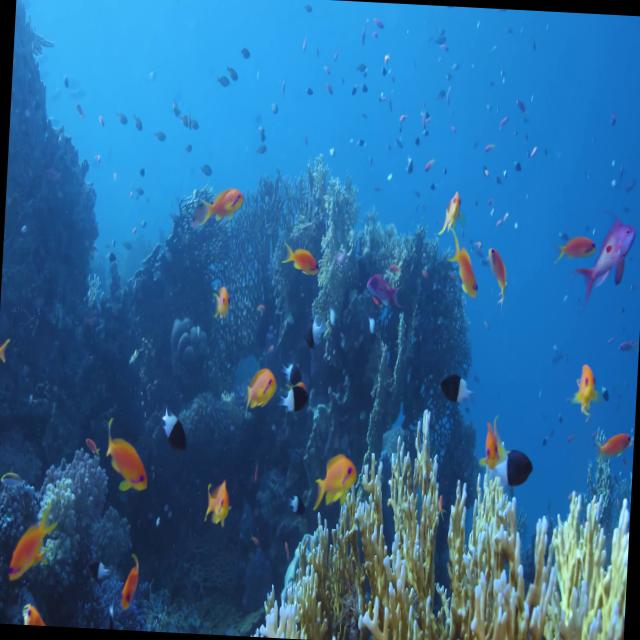fish: (0, 491, 60, 594), (572, 215, 638, 302), (98, 414, 156, 504), (302, 437, 358, 528), (489, 434, 544, 494), (237, 354, 280, 424), (484, 231, 520, 312), (446, 230, 484, 306), (197, 176, 244, 235), (274, 232, 326, 285), (432, 362, 487, 412), (197, 470, 237, 536), (585, 416, 635, 468), (12, 582, 67, 626), (568, 351, 603, 417), (156, 401, 196, 458), (429, 187, 468, 244), (552, 216, 596, 266), (112, 544, 149, 603), (276, 376, 314, 426), (478, 414, 508, 474), (208, 279, 235, 330), (0, 331, 13, 368)
